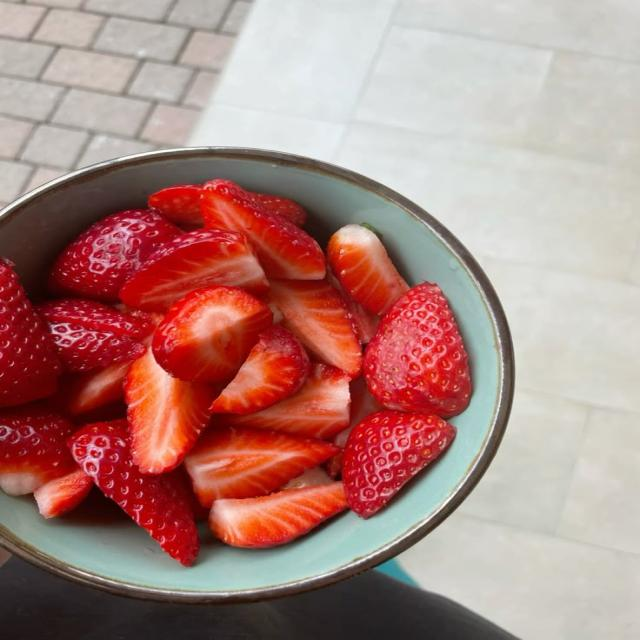strawberry sliced: (70, 420, 199, 565), (364, 283, 471, 418), (201, 180, 326, 279), (342, 410, 455, 518), (49, 210, 181, 302), (120, 229, 268, 311), (185, 427, 337, 506), (153, 287, 272, 382), (125, 349, 213, 474), (215, 363, 350, 439), (0, 258, 61, 406), (271, 280, 362, 378), (209, 483, 346, 548), (211, 325, 309, 414), (37, 299, 153, 371), (327, 224, 409, 314), (0, 403, 76, 495), (326, 378, 383, 478), (37, 298, 154, 339), (327, 271, 379, 345), (57, 363, 130, 415), (34, 468, 93, 518), (167, 464, 210, 520), (148, 184, 202, 225), (249, 192, 306, 227), (281, 466, 333, 489), (259, 291, 283, 324)
